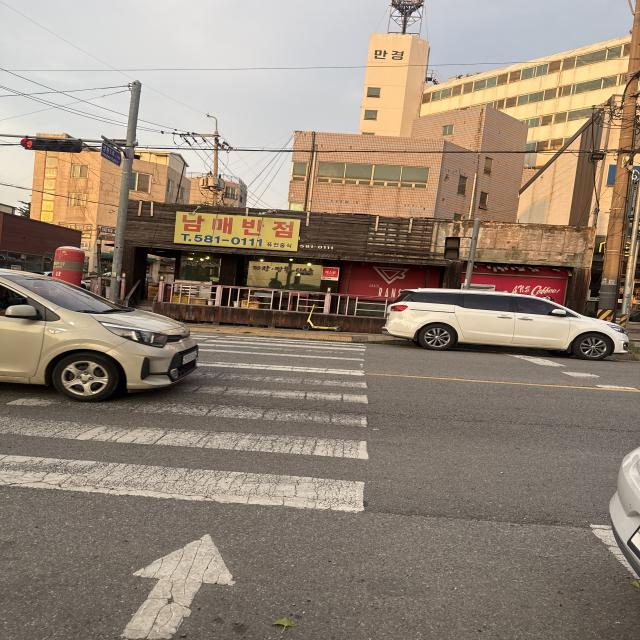car: (0, 264, 198, 403), (366, 274, 640, 366)
